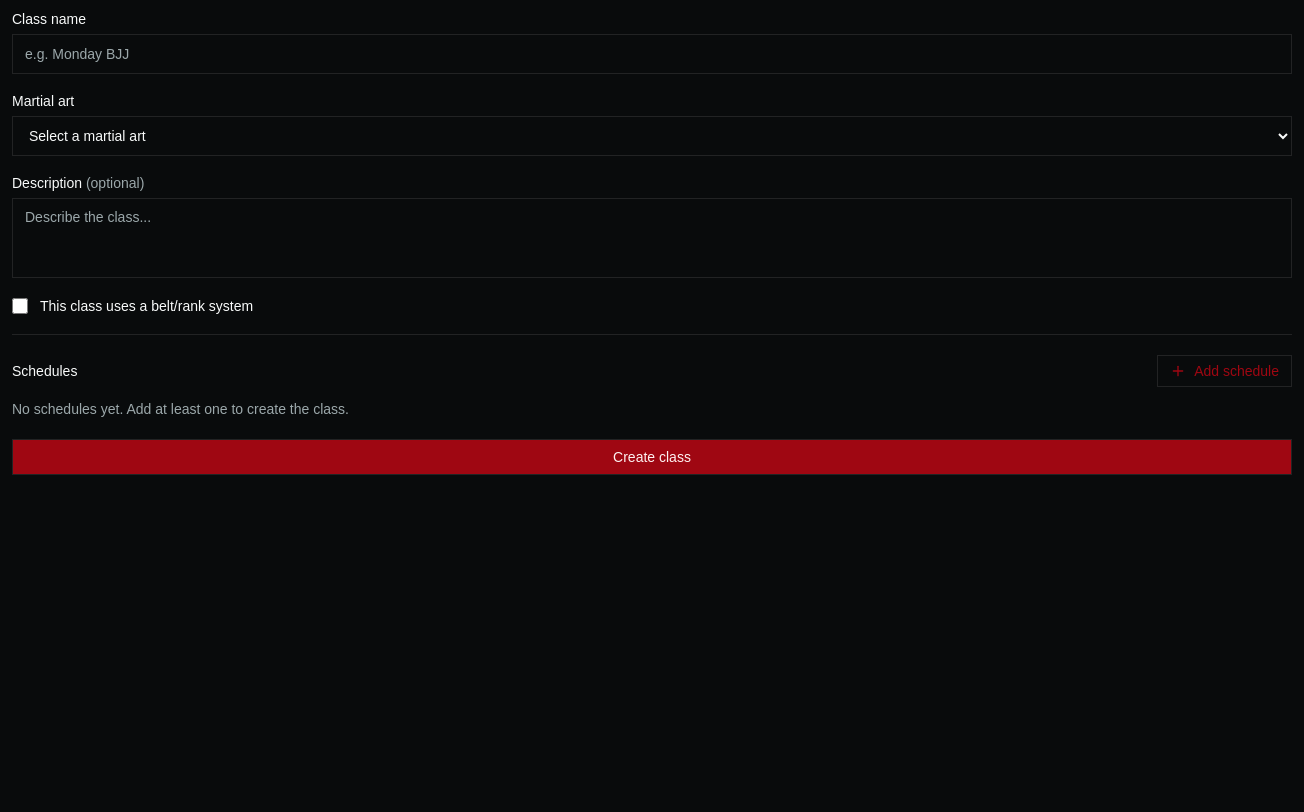
Scenario: ClassForm — schedule field array › clicking 'Remove' removes the schedule row
Click the button "Add schedule" at (1225, 371), box [1157, 355, 1292, 387]
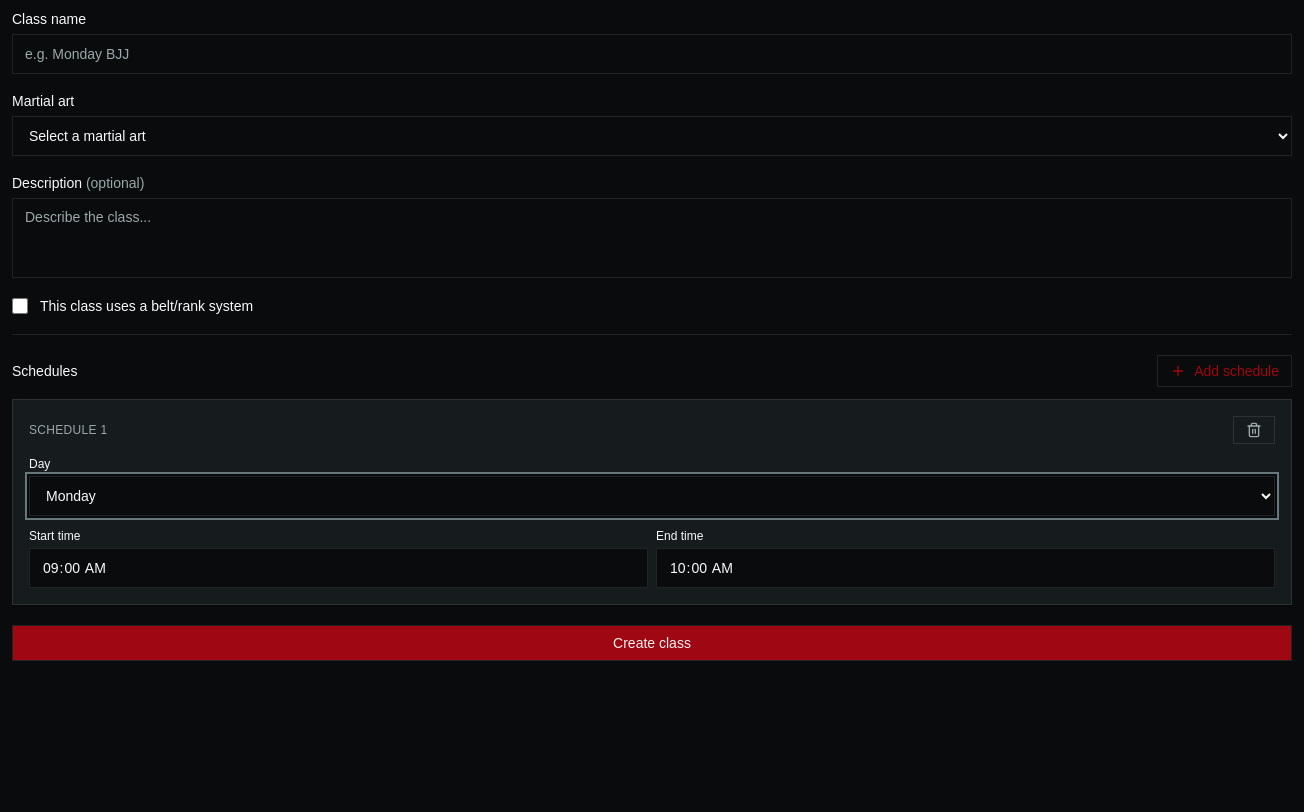
Check: the text "Schedule 1" is shown, box [29, 422, 107, 438]
Click the button named "remove" at (1254, 430), box [1233, 416, 1275, 444]
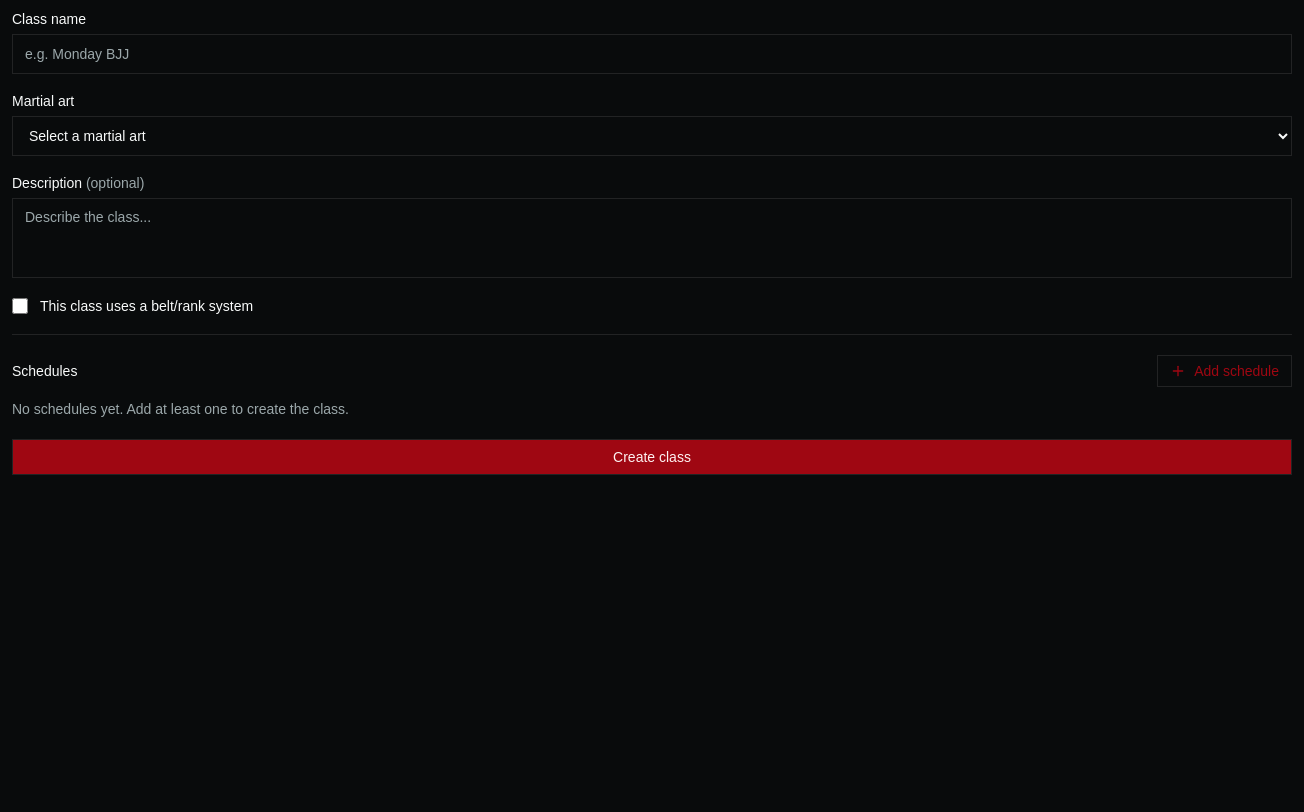
Check: the text "Schedule 1" is gone
